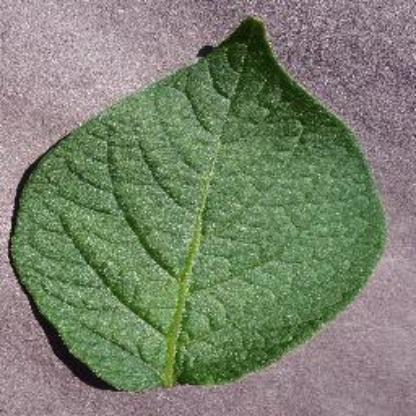Healthy-plant: (3, 13, 395, 398)
